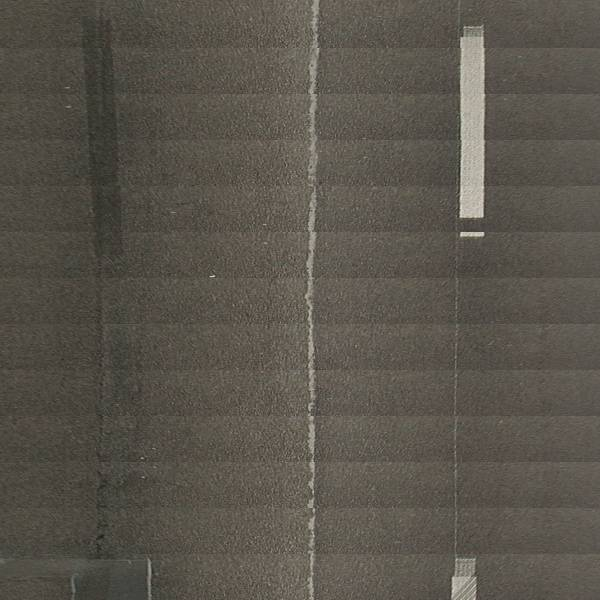road_damage: (305, 5, 318, 472), (66, 554, 158, 600), (88, 460, 117, 559)
